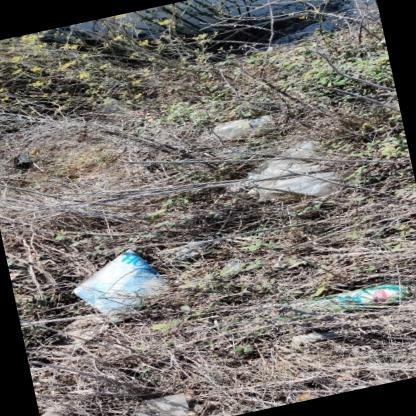Plastic: (73, 248, 173, 313), (281, 284, 411, 312), (133, 393, 189, 416), (101, 96, 133, 112), (14, 154, 31, 173), (40, 411, 63, 416)
Waste: (213, 115, 275, 140), (222, 261, 238, 268)
